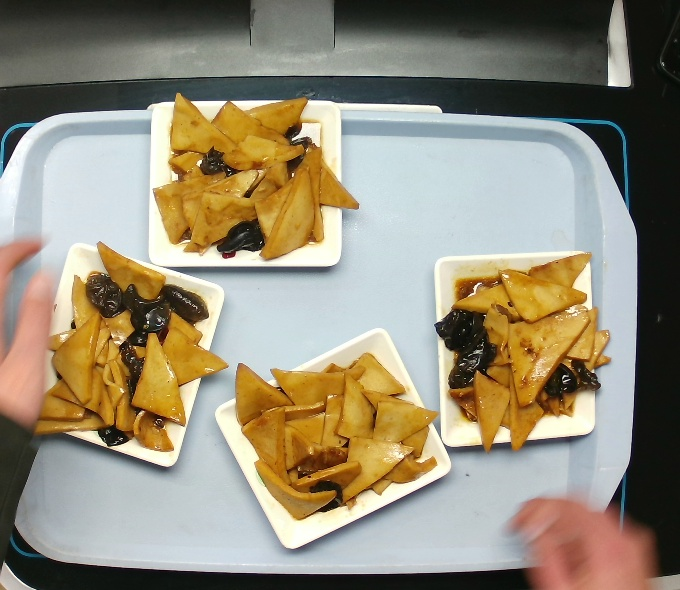wcq-QianYeDouFuChaoMuEr: (23, 234, 233, 459), (148, 88, 367, 267), (431, 247, 618, 456), (229, 344, 444, 524)
